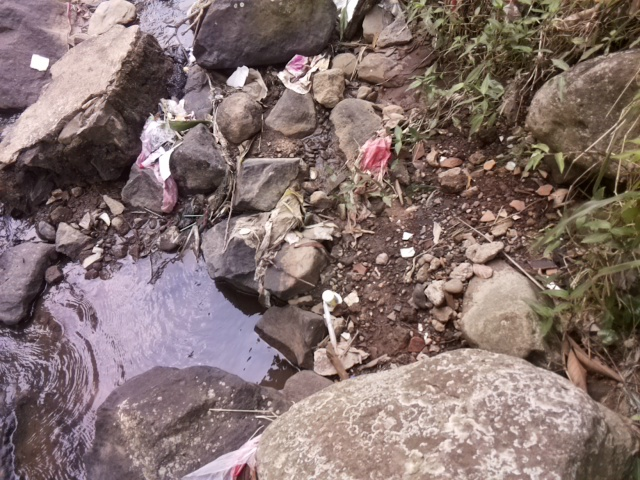Sampah_Plastik: (136, 94, 180, 212), (353, 124, 394, 188), (277, 50, 333, 93)
Sampah_Styrofoam: (318, 286, 343, 312), (27, 51, 53, 73)
